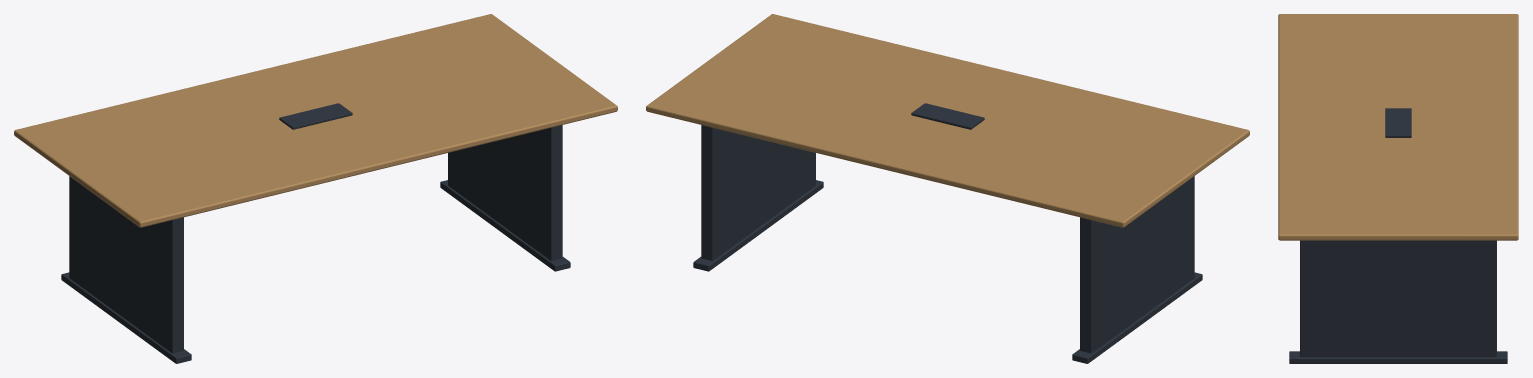
The model's file is meeting.glb.
3 views of the same model, side by side, from view 1: azimuth 30°, elevation 25°; view 2: azimuth 150°, elevation 25°; view 3: azimuth 270°, elevation 25° (orthographic). The views are drawn at different scales.
Visible parts, largest first — view 1: meeting; view 2: meeting; view 3: meeting.
Boxes of the visible parts, x1,y1,x2,y2 form: meeting: (14, 14, 617, 363); meeting: (646, 14, 1249, 363); meeting: (1278, 14, 1518, 363).
Bounding box in the file's own units: 2.4 × 0.762 × 1.1.
